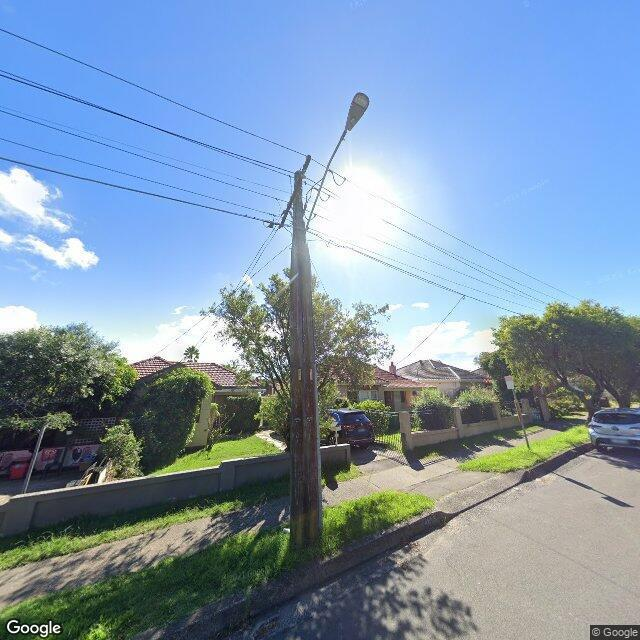crossarm: (279, 154, 312, 228)
streetlight: (302, 92, 369, 238)
timber-pole: (288, 170, 323, 552)
